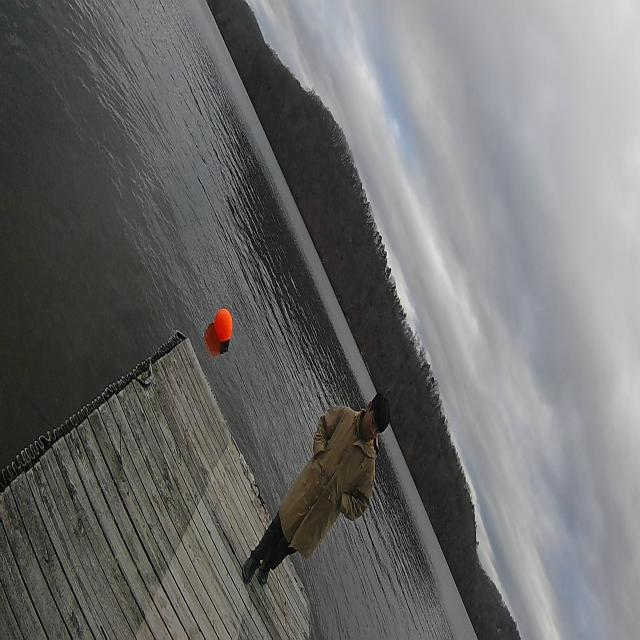Buoy: (212, 304, 236, 357)
